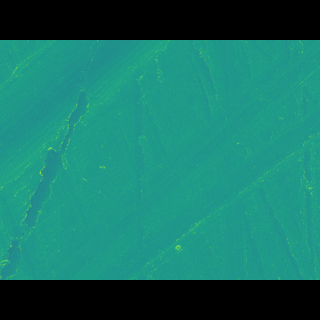Loch: (30, 120, 320, 250), (0, 71, 175, 176)
